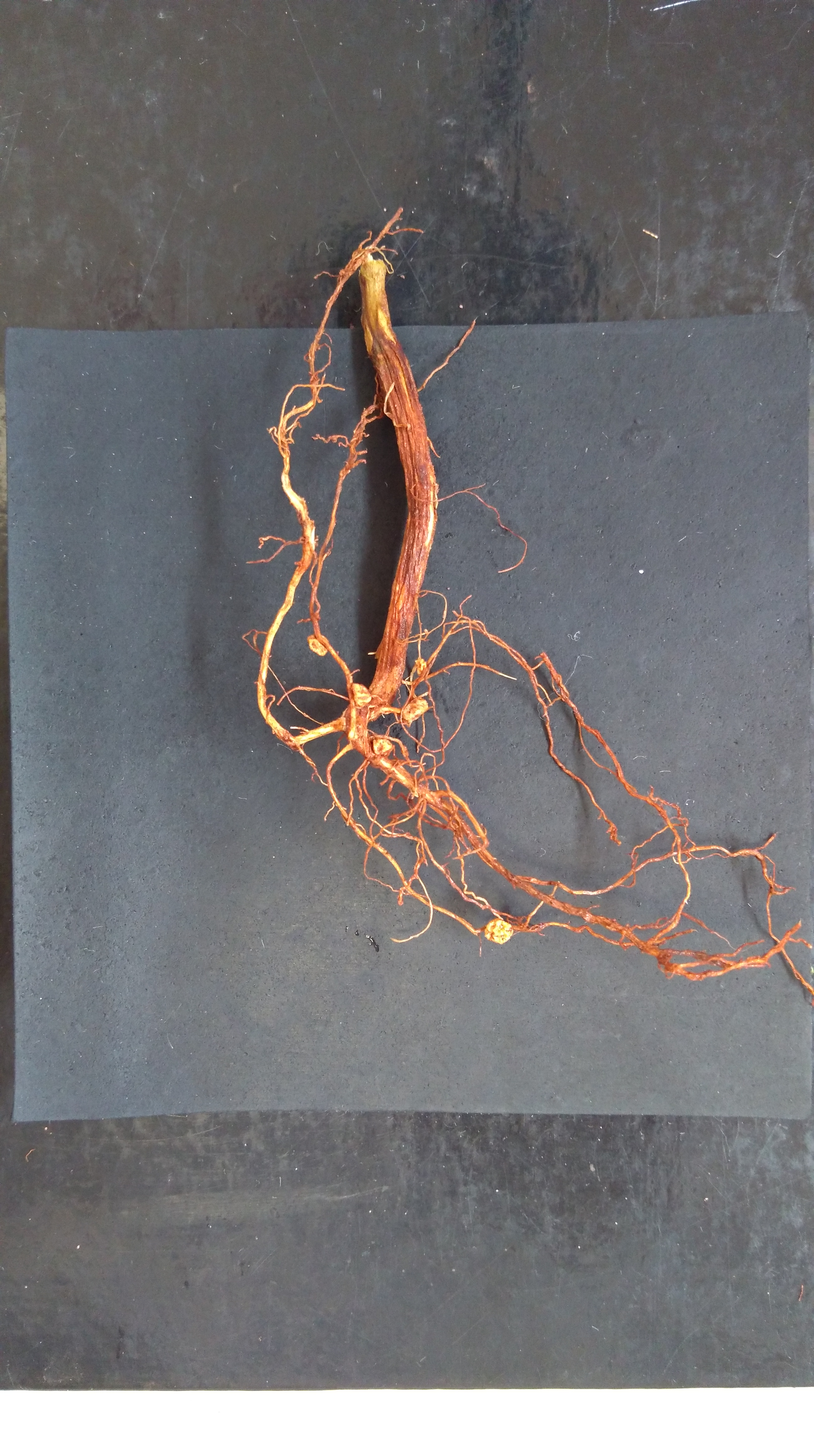nodule: (483, 916, 516, 947), (400, 696, 430, 728), (306, 632, 331, 658), (349, 680, 372, 708), (371, 737, 393, 756), (414, 657, 428, 676)
